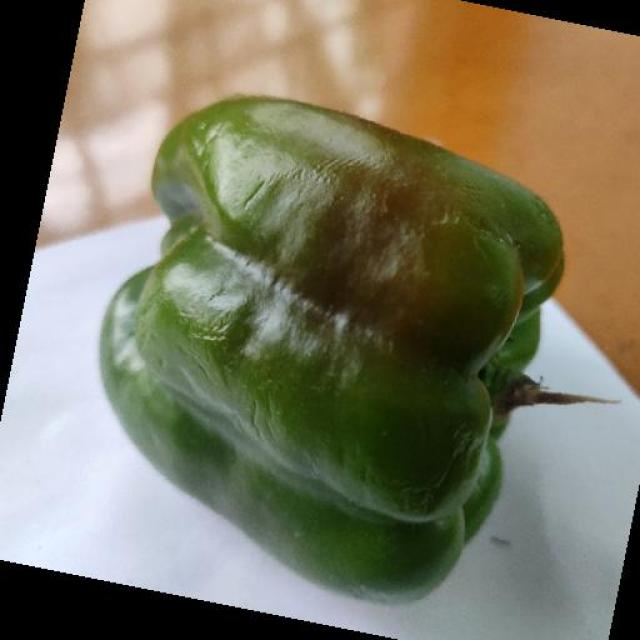Stale_Capsicum: (90, 112, 536, 634)
